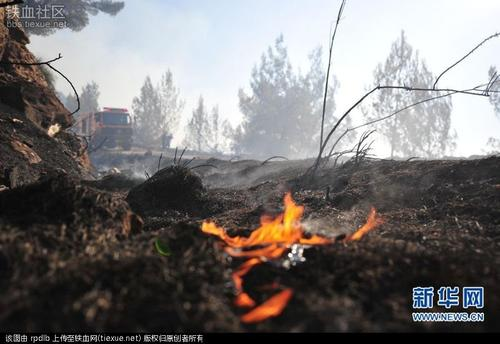fire: (249, 206, 315, 246)
smoke: (144, 77, 316, 165), (327, 62, 486, 154)
